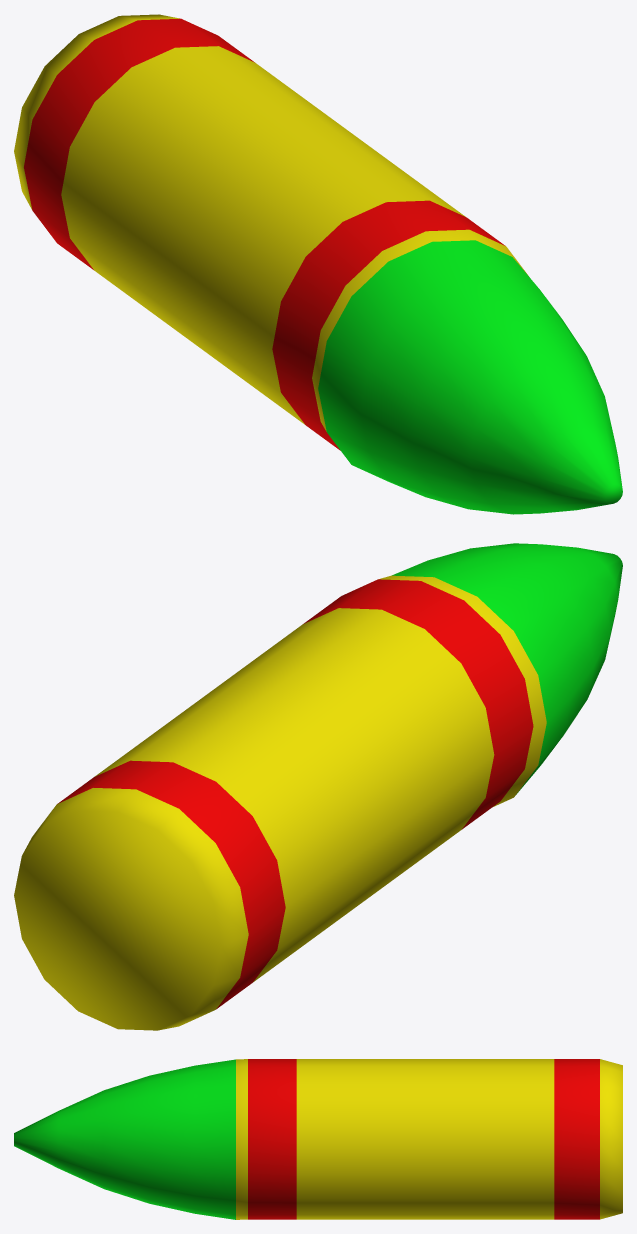
The model's file is high_explosive_projectile.fbx.
3 views of the same model, one above another, from view 1: azimuth 30°, elevation 25°; view 2: azimuth 150°, elevation 25°; view 3: azimuth 270°, elevation 25° (orthographic). The views are drawn at different scales.
Parts seen in each view (by area): view 1: Cylinder; view 2: Cylinder; view 3: Cylinder.
Boxes of the visible parts, box(x1,y1,x2,y2) form: Cylinder: box(14, 14, 622, 514); Cylinder: box(14, 543, 622, 1030); Cylinder: box(14, 1059, 622, 1219).
Bounding box in the file's own units: 287 × 286 × 1072.
